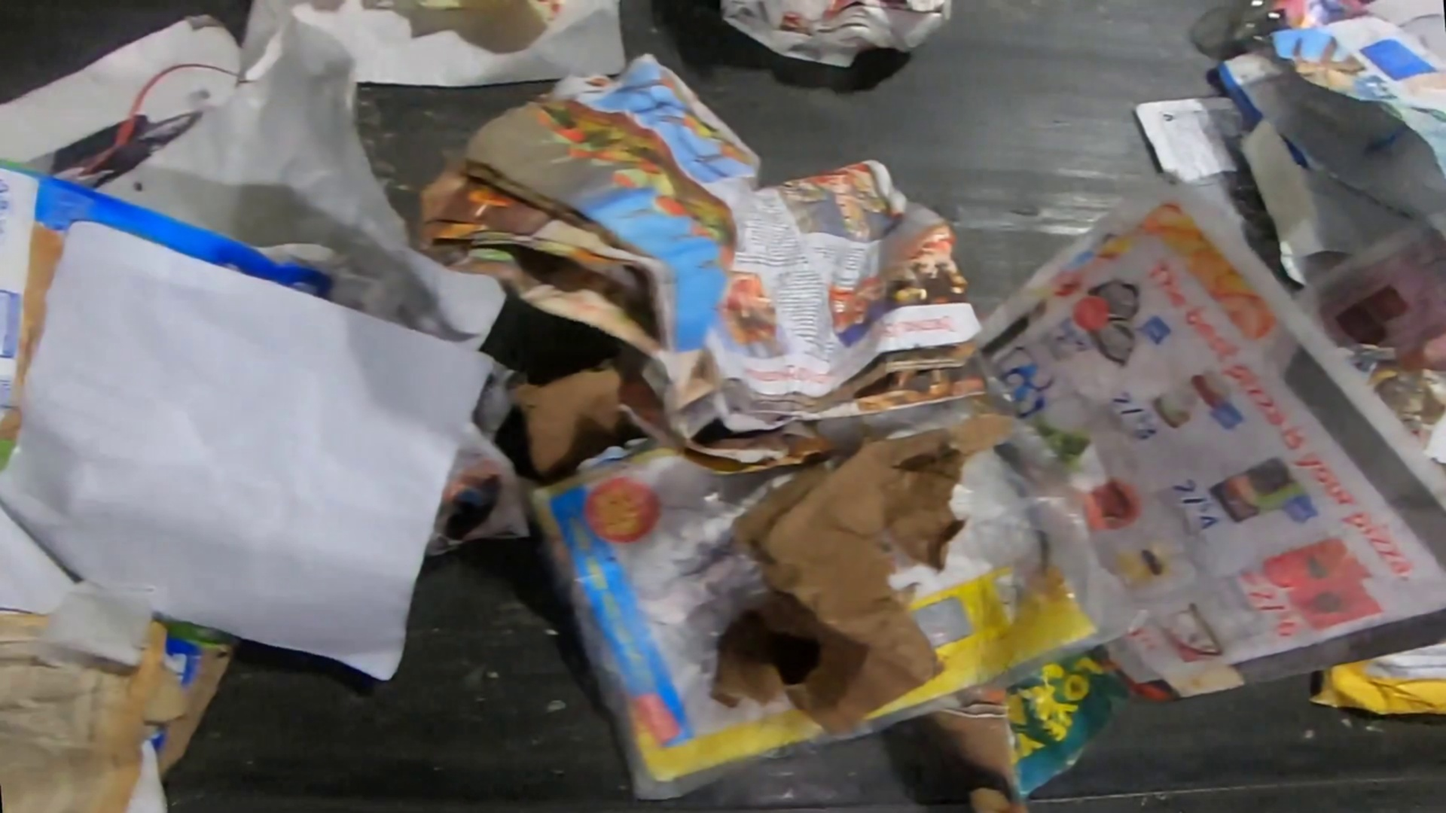cardboard: (707, 393, 1021, 740), (507, 357, 625, 482), (146, 634, 235, 781), (1307, 640, 1446, 716)
plastic: (525, 422, 1154, 802), (811, 397, 971, 470), (1230, 0, 1374, 52)
